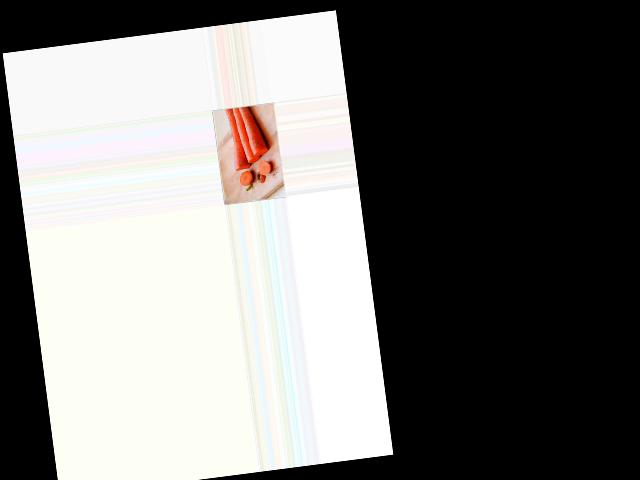carrot: (242, 103, 269, 163)
